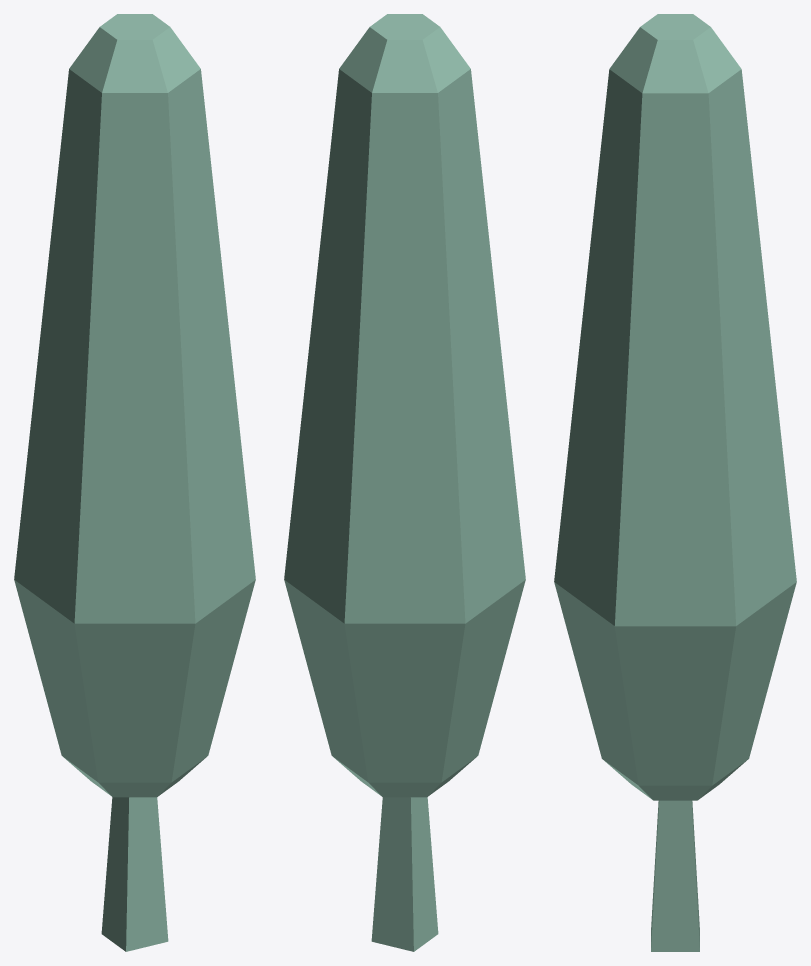
The model's file is naturePack_150.fbx.
3 renders of one model, left to right at view 1: azimuth 30°, elevation 25°; view 2: azimuth 150°, elevation 25°; view 3: azimuth 270°, elevation 25°, orthographic.
Parts seen in each view (by area): view 1: naturePack_150; view 2: naturePack_150; view 3: naturePack_150.
Boxes of the visible parts, left/top/right/bottom form: naturePack_150: left=14, top=14, right=255, bottom=951; naturePack_150: left=284, top=14, right=525, bottom=951; naturePack_150: left=554, top=14, right=796, bottom=951.
Bounding box in the file's own units: 172 × 825 × 198.
